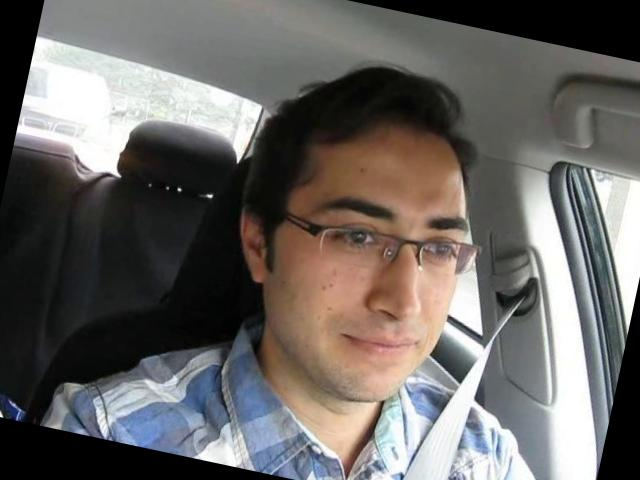eye_open: (326, 220, 386, 260), (414, 232, 461, 270)
face: (252, 161, 479, 418)
